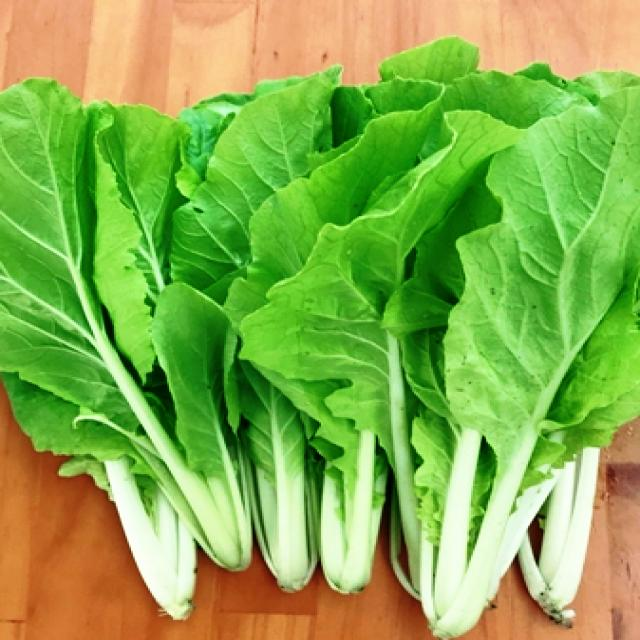chinese_cabbage: (14, 43, 624, 612)
